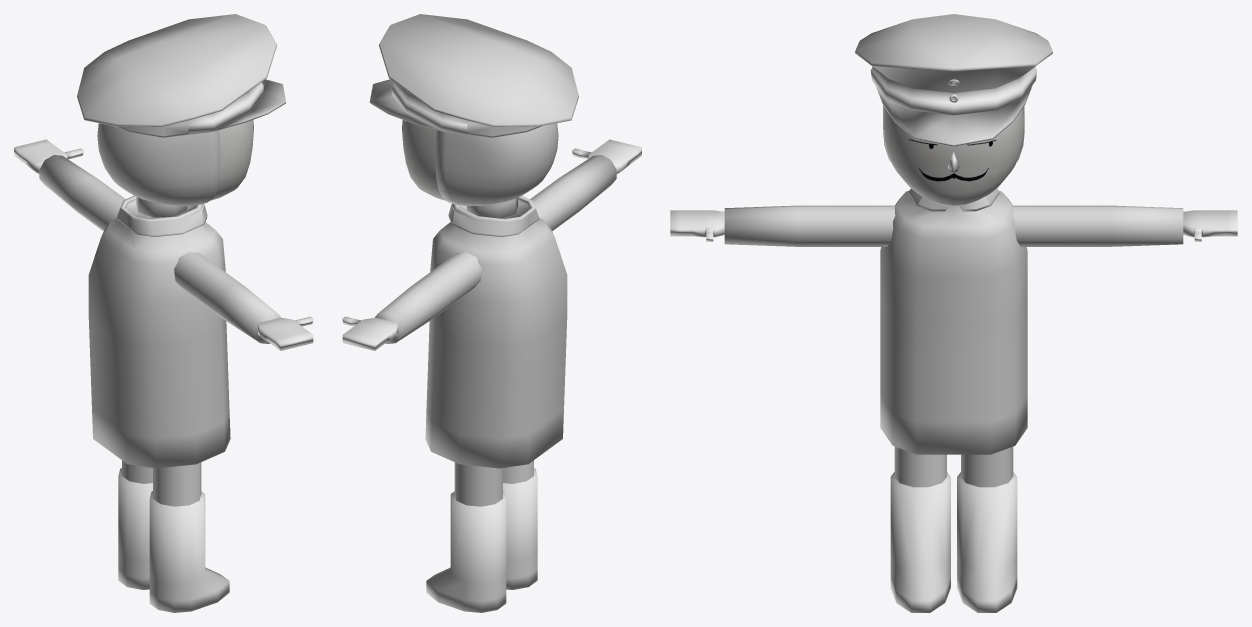
The model's file is GER_Officer.fbx.
3 renders of one model, left to right at view 1: azimuth 30°, elevation 25°; view 2: azimuth 150°, elevation 25°; view 3: azimuth 270°, elevation 25°, orthographic. The views are drawn at different scales.
Visible parts, largest first — view 1: Body.001, Hat.001, Coat, Shoe.002, Hands.004, Shoe.003, Hands.003, Head.002, Collar.001, Legs.002, Palms.004, Palms.003 (+2 smaller); view 2: Body.001, Hat.001, Coat, Shoe.003, Hands.003, Shoe.002, Hands.004, Head.002, Collar.001, Legs.003, Palms.003, Palms.004 (+2 smaller); view 3: Body.001, Hat.001, Shoe.002, Shoe.003, Head.002, Hands.003, Hands.004, Legs.002, Legs.003, Palms.003, Palms.004, Collar.001.
Part boxes in pixels (x1,y1,x2,y2): Body.001: (88,218,230,468); Hat.001: (77,14,286,137); Coat: (97,123,220,205); Shoe.002: (149,491,229,612); Hands.004: (174,252,280,343); Shoe.003: (118,468,152,589); Hands.003: (39,155,125,231); Head.002: (210,120,253,200); Collar.001: (116,196,207,237); Legs.002: (153,462,201,506); Palms.004: (258,316,313,350); Palms.003: (14,139,83,173); Body.001: (425,218,567,468); Hat.001: (369,14,578,137); Coat: (435,123,558,205); Shoe.003: (426,491,506,612); Hands.003: (375,252,481,343); Shoe.002: (503,468,537,589); Hands.004: (530,155,616,231); Head.002: (402,120,445,200); Collar.001: (448,196,539,237); Legs.003: (454,462,502,506); Palms.003: (342,316,397,350); Palms.004: (572,139,641,173); Body.001: (880,190,1027,454); Hat.001: (855,14,1052,146); Shoe.002: (890,472,950,612); Shoe.003: (957,472,1017,612); Head.002: (884,108,1023,206); Hands.003: (1012,205,1183,246); Hands.004: (724,205,895,246); Legs.002: (894,446,946,487); Legs.003: (961,446,1013,487); Palms.003: (1183,210,1237,241); Palms.004: (670,210,724,241); Collar.001: (908,188,999,211).
Bounding box in the file's own units: 291 × 755 × 677.
